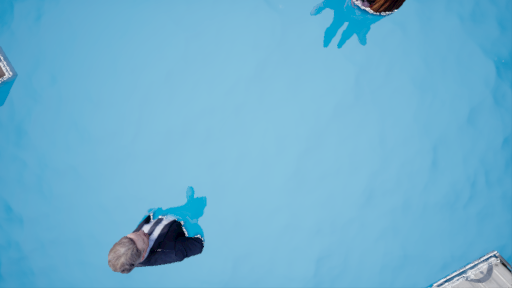person: (107, 189, 213, 275)
